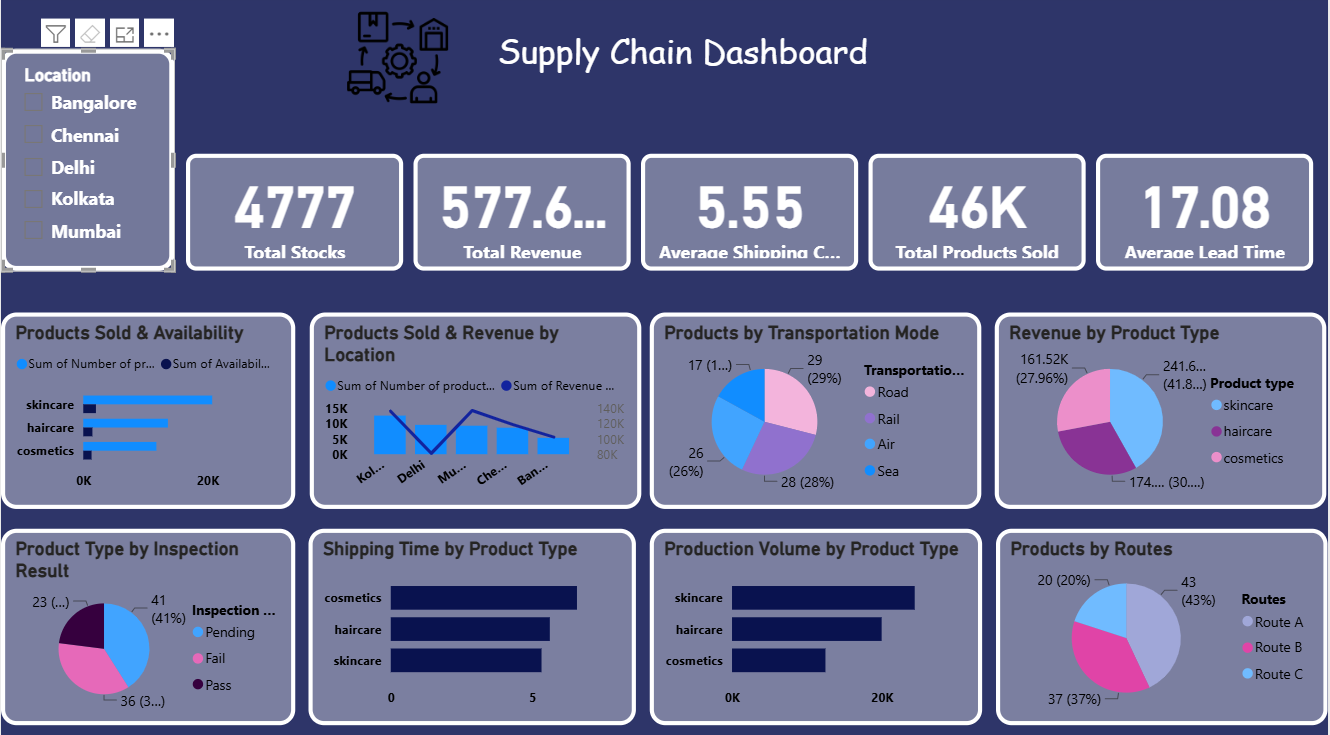

This screenshot's page, from the dashboard's own definition file:
{"tool":"powerbi","page":{"name":"Page 1","canvas":[1280,720],"ordinal":0},"visuals":[{"type":"card","fields":{"Values":["DAX.Average Lead Time"]},"box":[1056.6,153.7,209.9,112.5],"z":0},{"type":"card","fields":{"Values":["DAX.Average Shipping Costs"]},"box":[617.5,153.7,209.9,112.5],"z":1000},{"type":"card","fields":{"Values":["DAX.Total Products Sold"]},"box":[837.1,153.7,209.9,112.5],"z":2000},{"type":"card","fields":{"Values":["DAX.Total Revenue"]},"box":[397.9,153.7,209.9,112.5],"z":3000},{"type":"card","fields":{"Values":["DAX.Total Stocks"]},"box":[178.4,153.7,209.9,112.5],"z":4000},{"type":"clusteredBarChart","title":"Products Sold & Availability","fields":{"Category":["supply_chain_data.Product type"],"Y":["Sum(supply_chain_data.Number of products sold)","Sum(supply_chain_data.Availability)"]},"box":[0,306,284,189.4],"z":5000},{"type":"lineClusteredColumnComboChart","title":"Products Sold & Revenue by Location","fields":{"Category":["supply_chain_data.Location"],"Y":["Sum(supply_chain_data.Number of products sold)"],"Y2":["Sum(supply_chain_data.Revenue generated)"]},"box":[297.8,306,319.7,189.4],"z":6000},{"type":"pieChart","title":"Products by Transportation Mode","fields":{"Category":["supply_chain_data.Transportation modes"],"Y":["CountNonNull(supply_chain_data.SKU)"]},"box":[625.7,306,319.7,189.4],"z":7000},{"type":"pieChart","title":"Revenue by Product Type","fields":{"Category":["supply_chain_data.Product type"],"Y":["Sum(supply_chain_data.Revenue generated)"]},"box":[959.2,306,319.7,189.4],"z":8000},{"type":"pieChart","title":"Product Type by Inspection Result","fields":{"Category":["supply_chain_data.Inspection results"],"Y":["CountNonNull(supply_chain_data.SKU)"]},"box":[0,514.6,284,189.4],"z":9000},{"type":"clusteredBarChart","title":"Shipping Time by Product Type","fields":{"Category":["supply_chain_data.Product type"],"Y":["Avg(supply_chain_data.Shipping times)"]},"box":[297.3,514.6,315.6,189.4],"z":10000},{"type":"pieChart","title":"Products by Routes","fields":{"Category":["supply_chain_data.Routes"],"Y":["CountNonNull(supply_chain_data.SKU)"]},"box":[960.3,514.6,319.7,189.4],"z":11000},{"type":"clusteredBarChart","title":"Production Volume by Product Type","fields":{"Category":["supply_chain_data.Product type"],"Y":["Sum(supply_chain_data.Production volumes)"]},"box":[626.2,514.6,321.1,189.4],"z":12000},{"type":"textbox","box":[454.2,26.1,408.9,91.9],"z":13000},{"type":"slicer","fields":{"Values":["supply_chain_data.Location"]},"box":[0,52.1,167.4,214.1],"z":14000},{"type":"image","box":[310.1,4.1,145.5,113.9],"z":15000}]}

Visuals, with their boxes in screenshot pixels (x1, y1, x2, y2), scaled from the page's 1280x720 canvas onto the 1330x735 screenshot:
card - DAX.Average Lead Time: 1098/157/1316/272
card - DAX.Average Shipping Costs: 642/157/860/272
card - DAX.Total Products Sold: 870/157/1088/272
card - DAX.Total Revenue: 413/157/632/272
card - DAX.Total Stocks: 185/157/403/272
"Products Sold & Availability" clusteredBarChart: 0/312/295/506
"Products Sold & Revenue by Location" lineClusteredColumnComboChart: 309/312/642/506
"Products by Transportation Mode" pieChart: 650/312/982/506
"Revenue by Product Type" pieChart: 997/312/1329/506
"Product Type by Inspection Result" pieChart: 0/525/295/719
"Shipping Time by Product Type" clusteredBarChart: 309/525/637/719
"Products by Routes" pieChart: 998/525/1329/719
"Production Volume by Product Type" clusteredBarChart: 651/525/984/719
textbox: 472/27/897/120
slicer - supply_chain_data.Location: 0/53/174/272
image: 322/4/473/120
